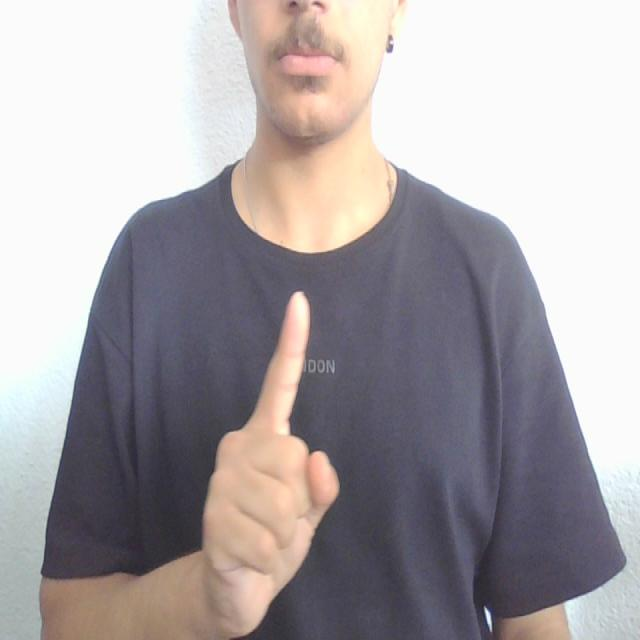Hayir: (198, 260, 368, 640)
